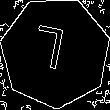L_S: (36, 25, 75, 80)
